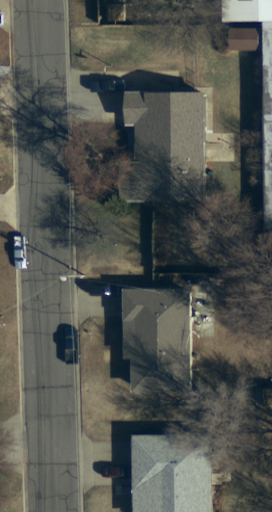DT: (59, 267, 87, 287)
